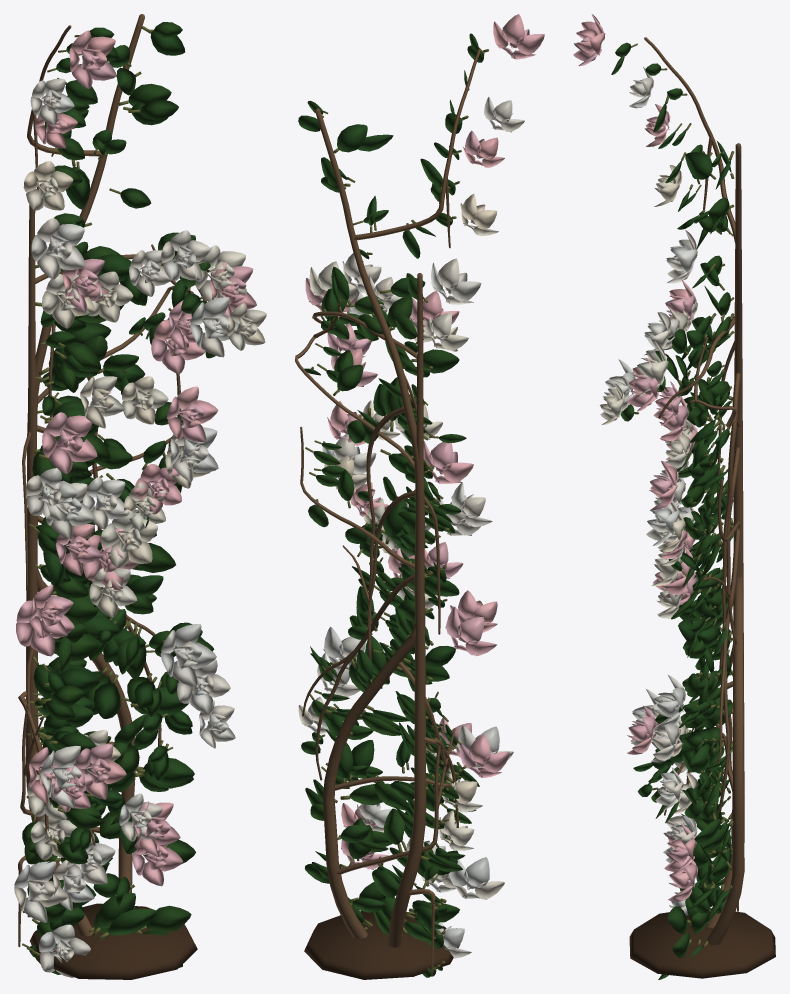
The model's file is climber_rose_narrow_b.glb.
3 views of the same model, side by side, from view 1: azimuth 30°, elevation 25°; view 2: azimuth 150°, elevation 25°; view 3: azimuth 270°, elevation 25° (orthographic). The views are drawn at different scales.
Visible parts, largest first — view 1: Sammel Pflanze, Sammel Holz, Sammel Putz; view 2: Sammel Pflanze, Sammel Holz, Sammel Putz; view 3: Sammel Pflanze, Sammel Holz, Sammel Putz.
Boxes of the visible parts, <box> form: Sammel Pflanze: <box>14,22,266,977</box>; Sammel Holz: <box>18,14,206,947</box>; Sammel Putz: <box>22,26,203,979</box>; Sammel Pflanze: <box>298,14,544,977</box>; Sammel Holz: <box>295,49,480,975</box>; Sammel Putz: <box>304,47,488,979</box>; Sammel Pflanze: <box>573,14,733,979</box>; Sammel Holz: <box>644,37,744,945</box>; Sammel Putz: <box>629,43,775,978</box>.
Size of the model in its own units: 0.5332 by 2.23 by 0.4505.
